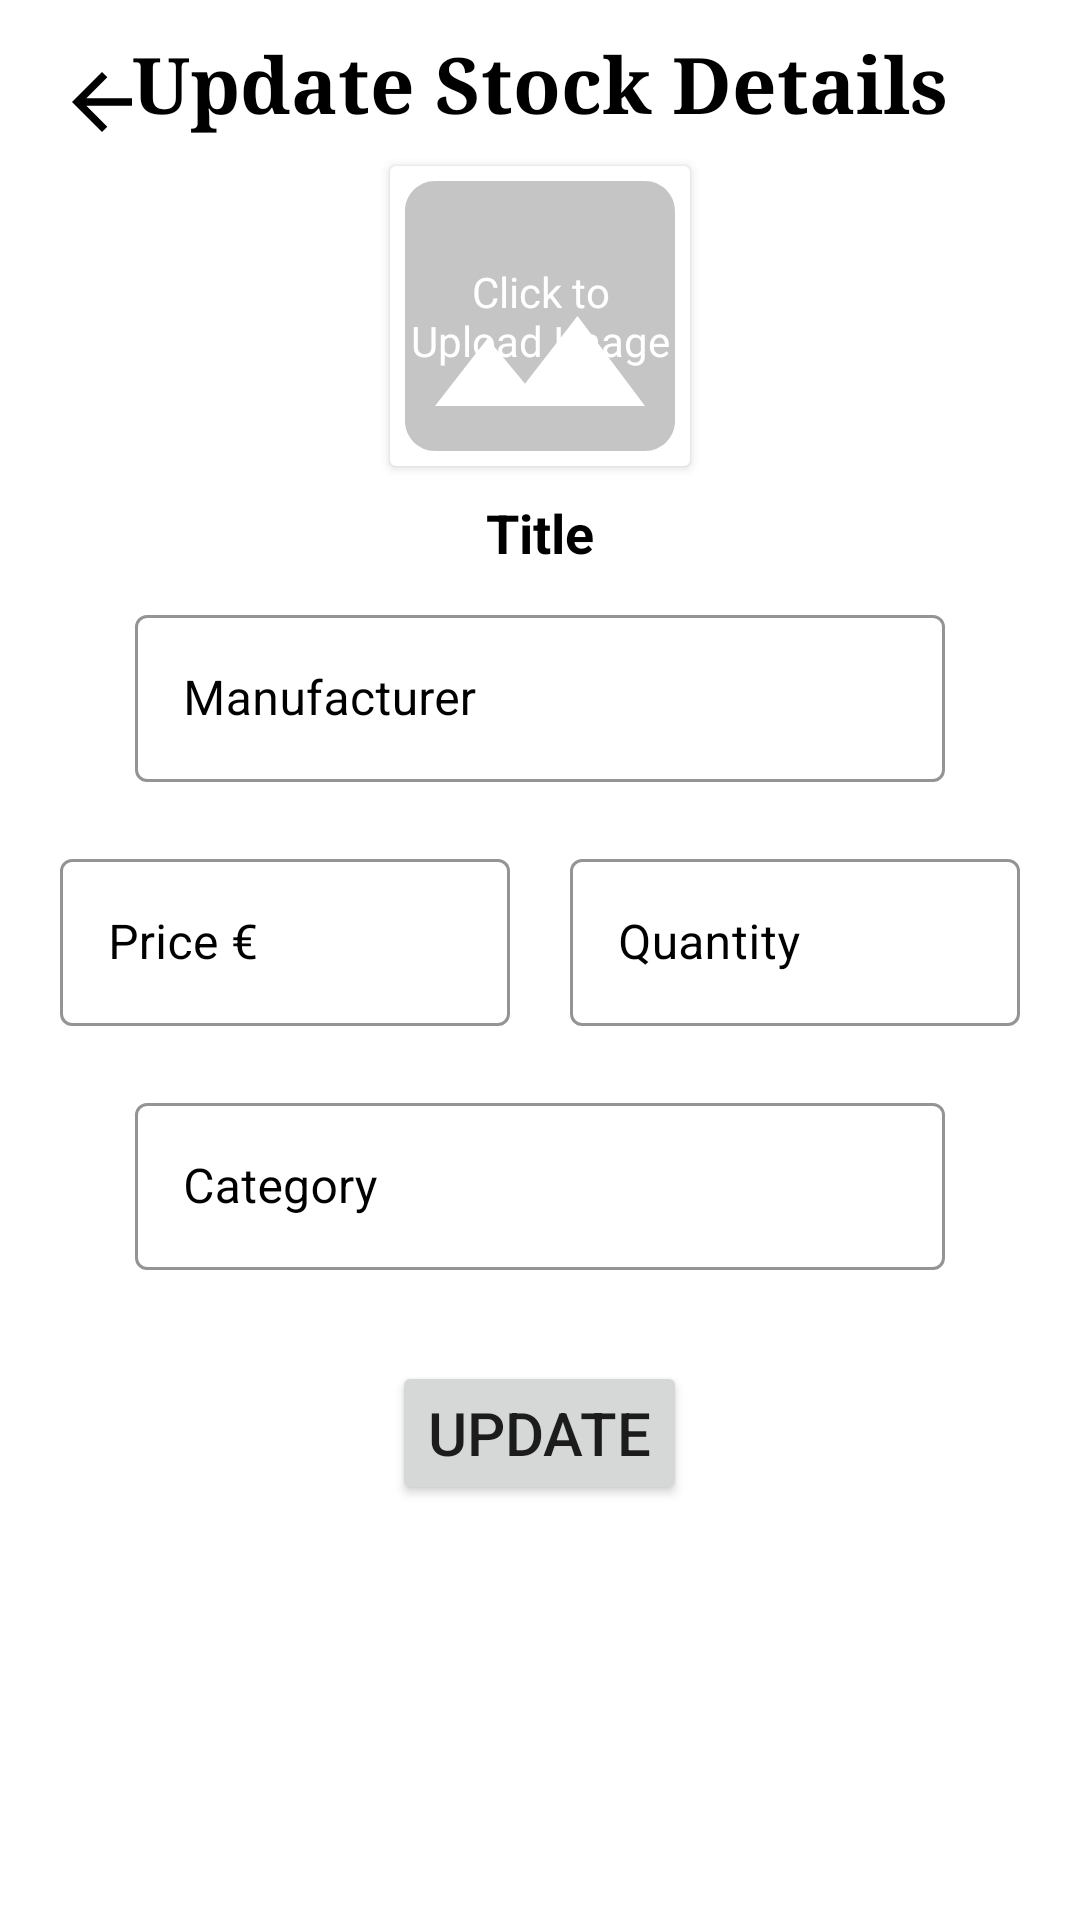

Where icons sit on this 1080px×1920px app screen, as (x1, y1, x2, y2):
arrow back: (72, 72, 132, 132)
